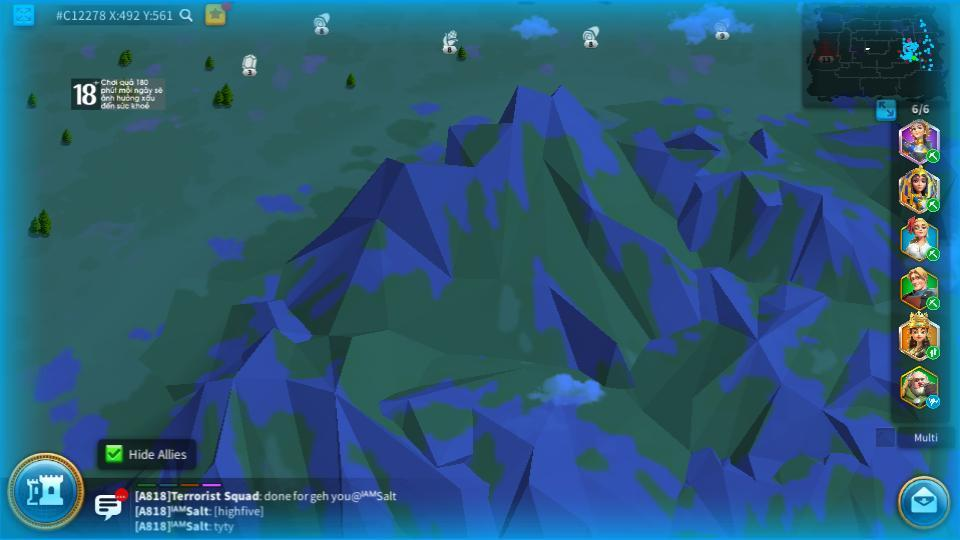gem-z-out: (239, 53, 259, 74)
march_idle: (925, 396, 942, 408)
march_marching: (924, 197, 939, 212), (924, 345, 939, 359), (924, 149, 939, 162), (926, 297, 941, 308)
